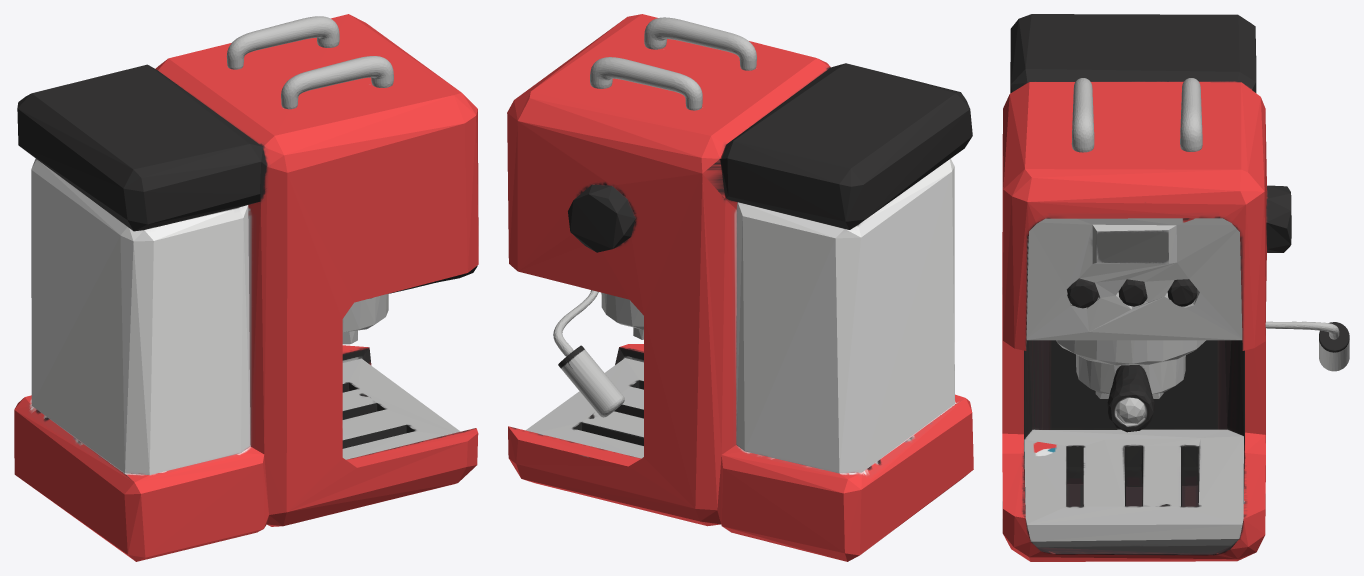
File: kaffeemaschine.glb
3 renders of one model, left to right at view 1: azimuth 30°, elevation 25°; view 2: azimuth 150°, elevation 25°; view 3: azimuth 270°, elevation 25°, orthographic.
Parts seen in each view (by area): view 1: 23_02_28_11_48_06_592_0, 23_02_28_11_48_06_592_1, 23_02_28_11_48_06_592_2, 23_02_28_11_48_06_592_4; view 2: 23_02_28_11_48_06_592_0, 23_02_28_11_48_06_592_2, 23_02_28_11_48_06_592_1, 23_02_28_11_48_06_592_7, 23_02_28_11_48_06_592_4, 23_02_28_11_48_06_592_6; view 3: 23_02_28_11_48_06_592_0, 23_02_28_11_48_06_592_4, 23_02_28_11_48_06_592_5, 23_02_28_11_48_06_592_3, 23_02_28_11_48_06_592_2, 23_02_28_11_48_06_592_1, 23_02_28_11_48_06_592_7, 23_02_28_11_48_06_592_6.
Part boxes in pixels (x1=…): 23_02_28_11_48_06_592_0: x1=14, y1=14, x2=478, y2=561; 23_02_28_11_48_06_592_1: x1=226, y1=16, x2=339, y2=69; 23_02_28_11_48_06_592_2: x1=281, y1=56, x2=393, y2=109; 23_02_28_11_48_06_592_4: x1=342, y1=293, x2=388, y2=344; 23_02_28_11_48_06_592_0: x1=507, y1=14, x2=973, y2=561; 23_02_28_11_48_06_592_2: x1=644, y1=17, x2=756, y2=70; 23_02_28_11_48_06_592_1: x1=590, y1=57, x2=702, y2=110; 23_02_28_11_48_06_592_7: x1=558, y1=345, x2=624, y2=417; 23_02_28_11_48_06_592_4: x1=601, y1=292, x2=643, y2=339; 23_02_28_11_48_06_592_6: x1=553, y1=290, x2=598, y2=356; 23_02_28_11_48_06_592_0: x1=1002, y1=14, x2=1291, y2=561; 23_02_28_11_48_06_592_4: x1=1056, y1=340, x2=1205, y2=398; 23_02_28_11_48_06_592_5: x1=1107, y1=365, x2=1154, y2=432; 23_02_28_11_48_06_592_3: x1=1067, y1=278, x2=1197, y2=308; 23_02_28_11_48_06_592_2: x1=1071, y1=78, x2=1094, y2=152; 23_02_28_11_48_06_592_1: x1=1180, y1=78, x2=1202, y2=151; 23_02_28_11_48_06_592_7: x1=1319, y1=322, x2=1349, y2=371; 23_02_28_11_48_06_592_6: x1=1265, y1=321, x2=1339, y2=339.
Size of the model in its own units: 7.22 by 7.23 by 5.4.
8 materials, 8 textured.
